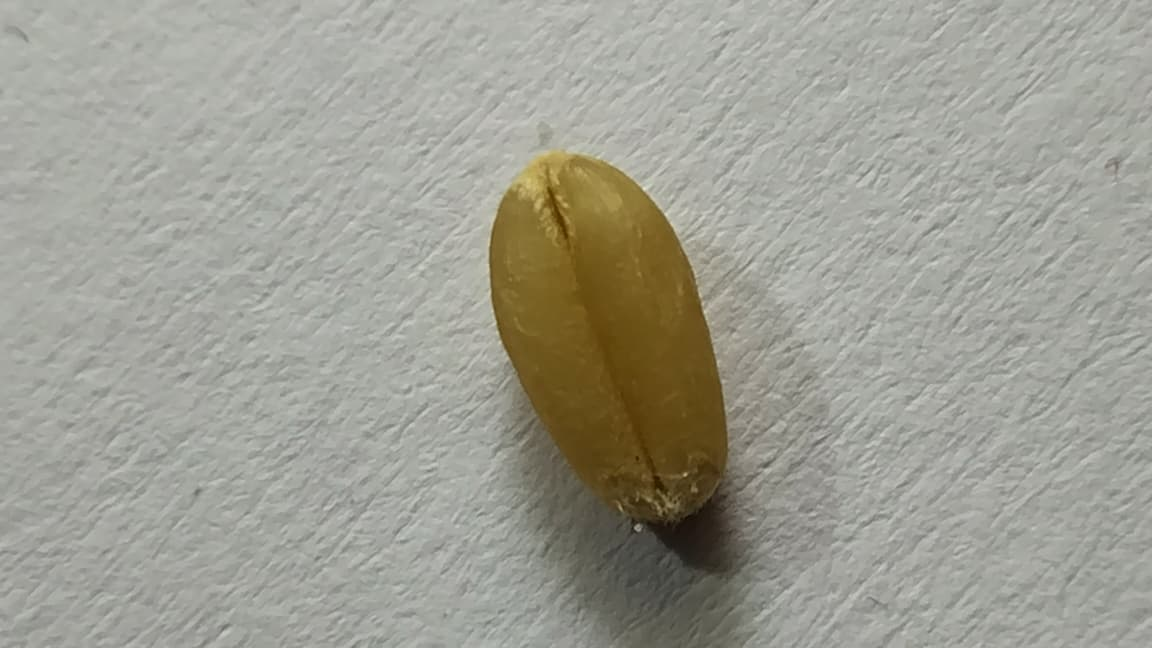healthy: (490, 151, 727, 523)
